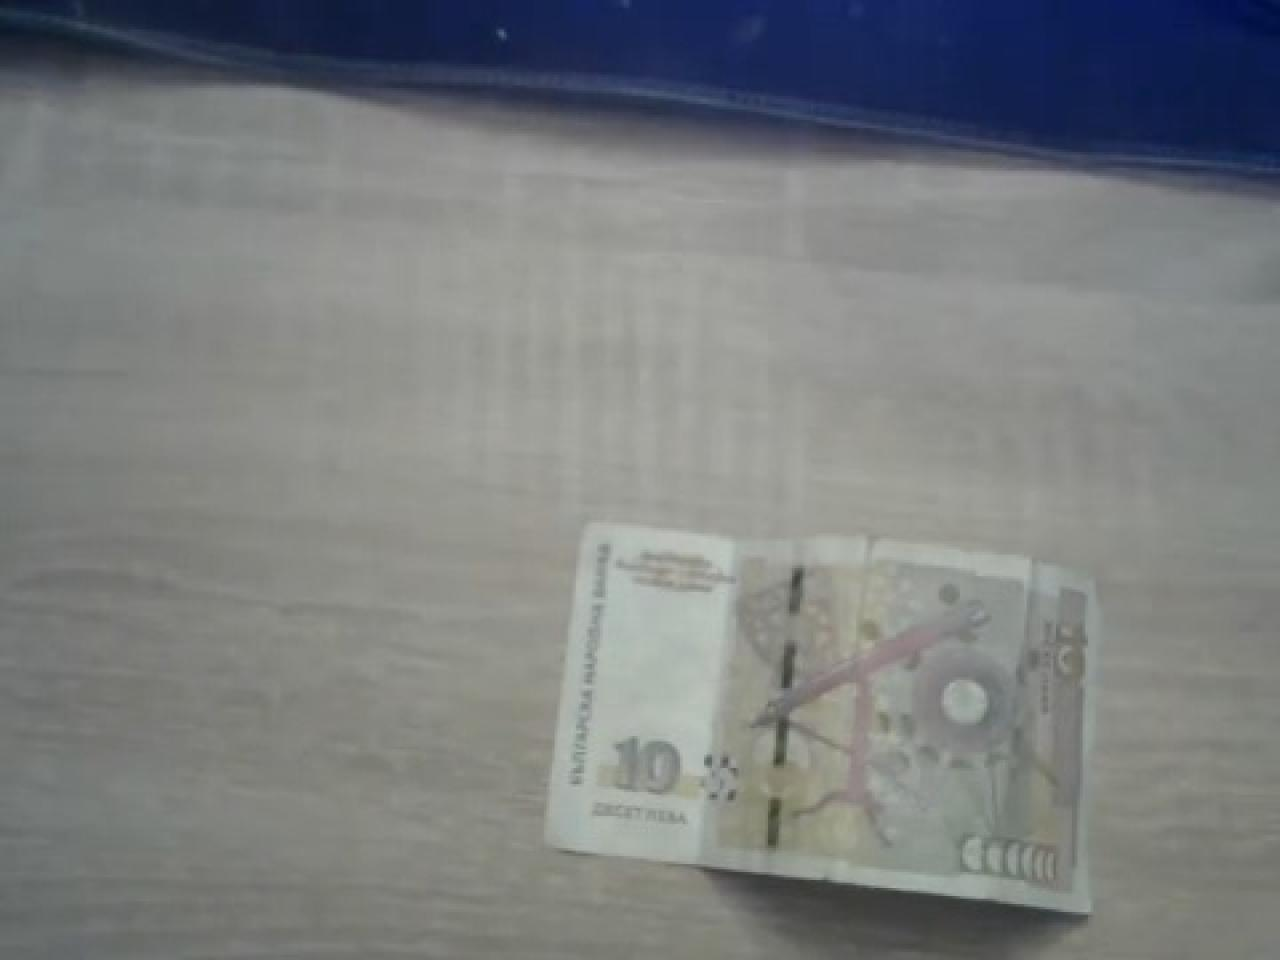10leva: (541, 522, 1102, 920)
